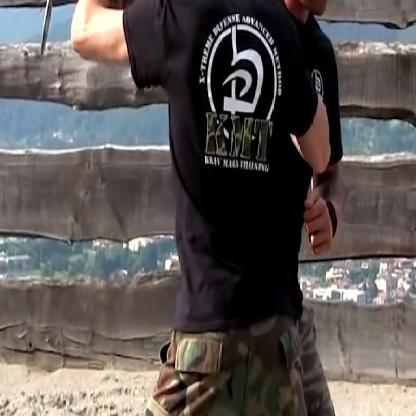knife: (31, 0, 74, 72)
